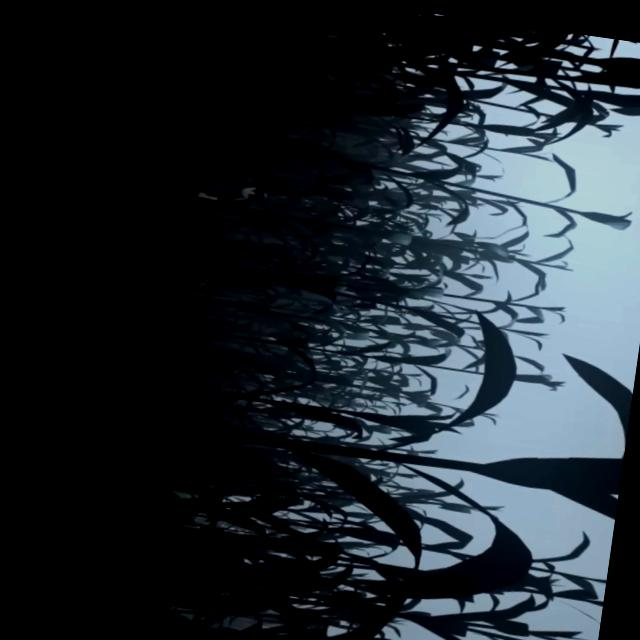boy: (150, 170, 268, 210)
